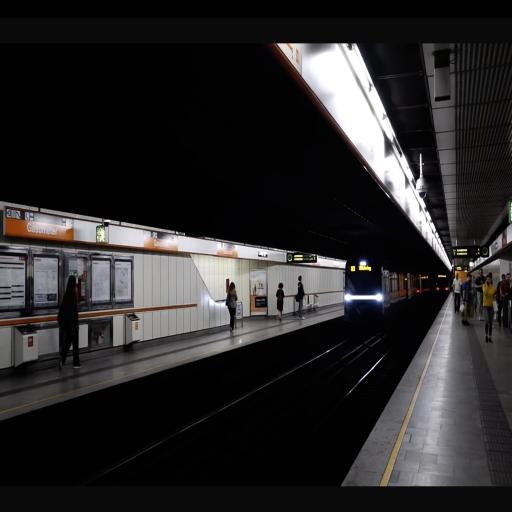X-Wagen: (344, 257, 420, 320)
